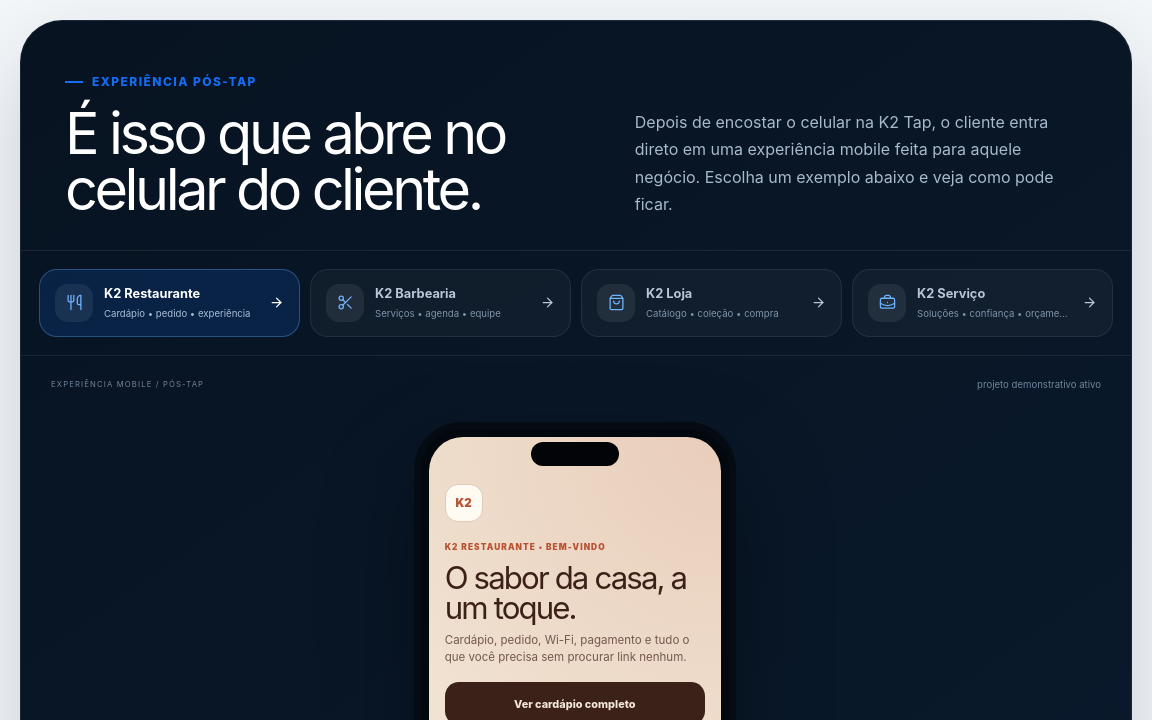
Scenario: ProjectShowcase › troca entre os quatro projetos fictícios
Expected: the heading "O sabor da casa, a um toque." is shown, [445, 564, 705, 624]
Step 1. Click the tab "K2 Barbearia Serviços • agenda • equipe" → [440, 303], box [310, 269, 571, 337]
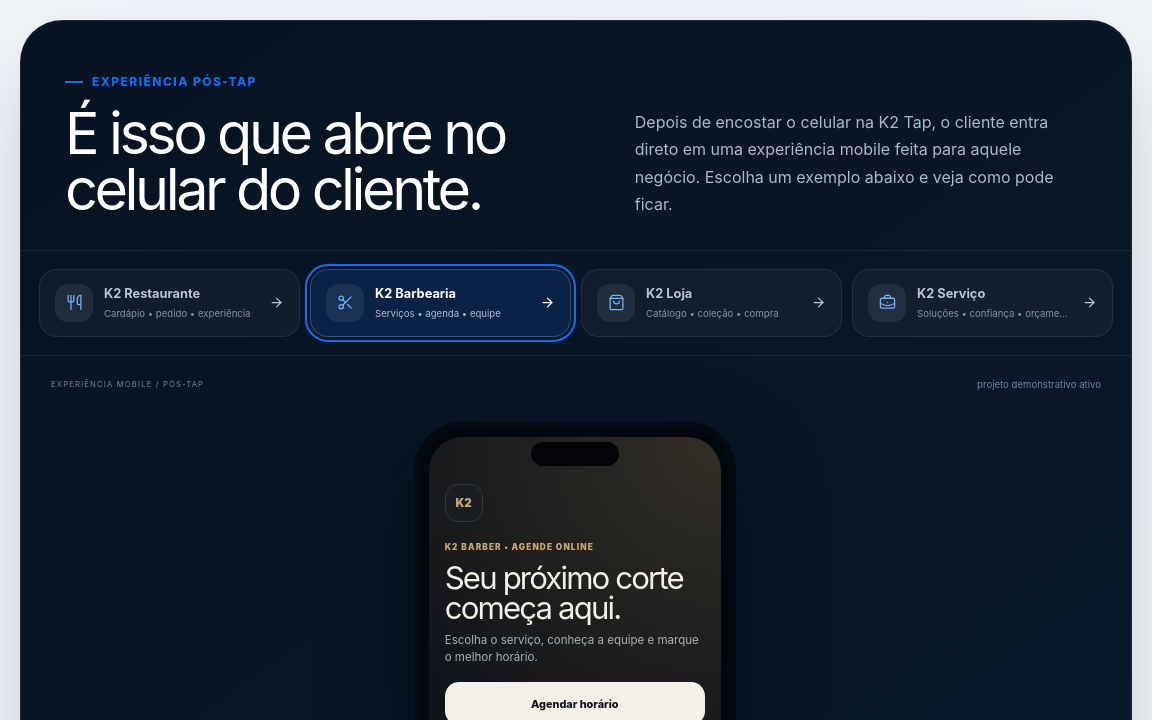
Expected: the heading "Seu próximo corte começa aqui." is shown, [445, 564, 705, 624]
Step 2. Click the tab "K2 Loja Catálogo • coleção • compra" → [616, 303], box [581, 269, 842, 337]
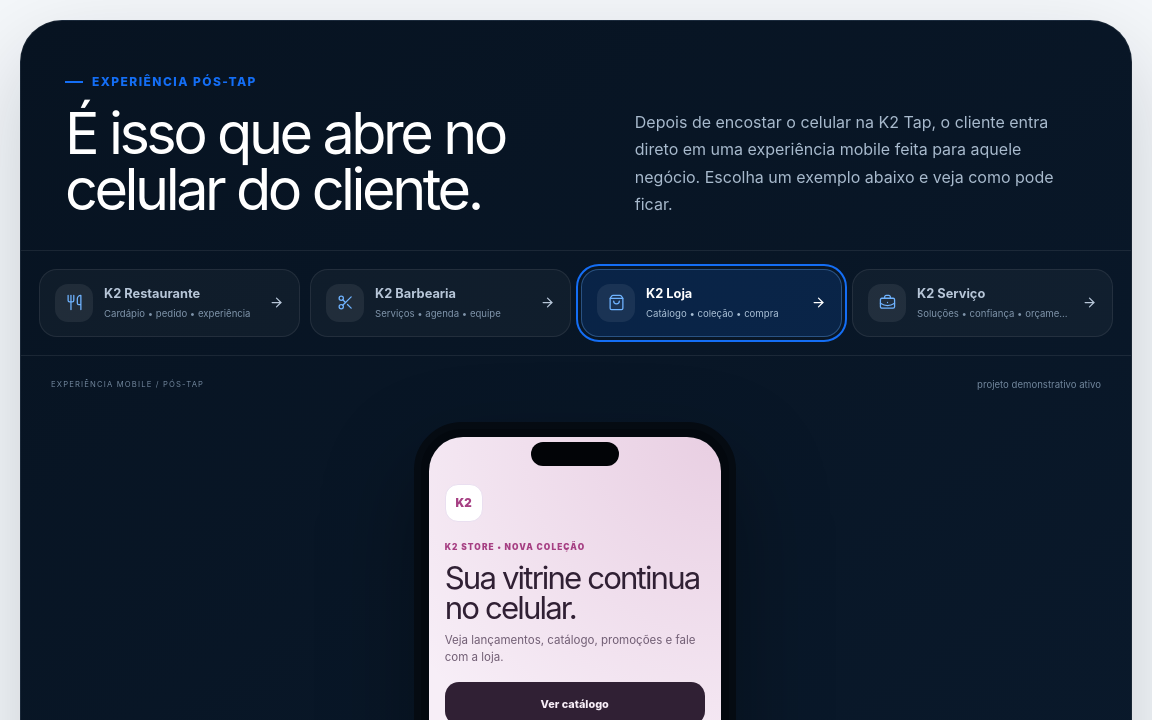
Expected: the heading "Sua vitrine continua no celular." is shown, [445, 564, 705, 624]
Step 3. Click the tab "K2 Serviço Soluções • confiança • orçamento" → [982, 303], box [852, 269, 1113, 337]
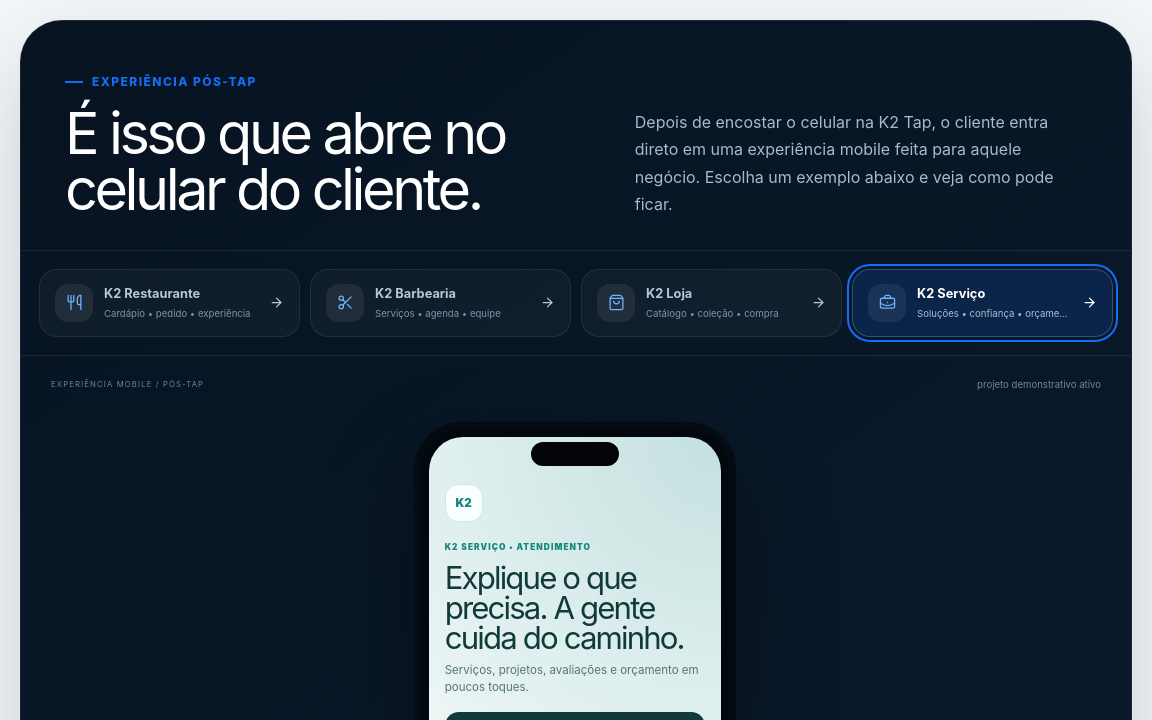
Expected: the heading "Explique o que precisa. A gente cuida do caminho." is shown, [445, 564, 705, 654]
